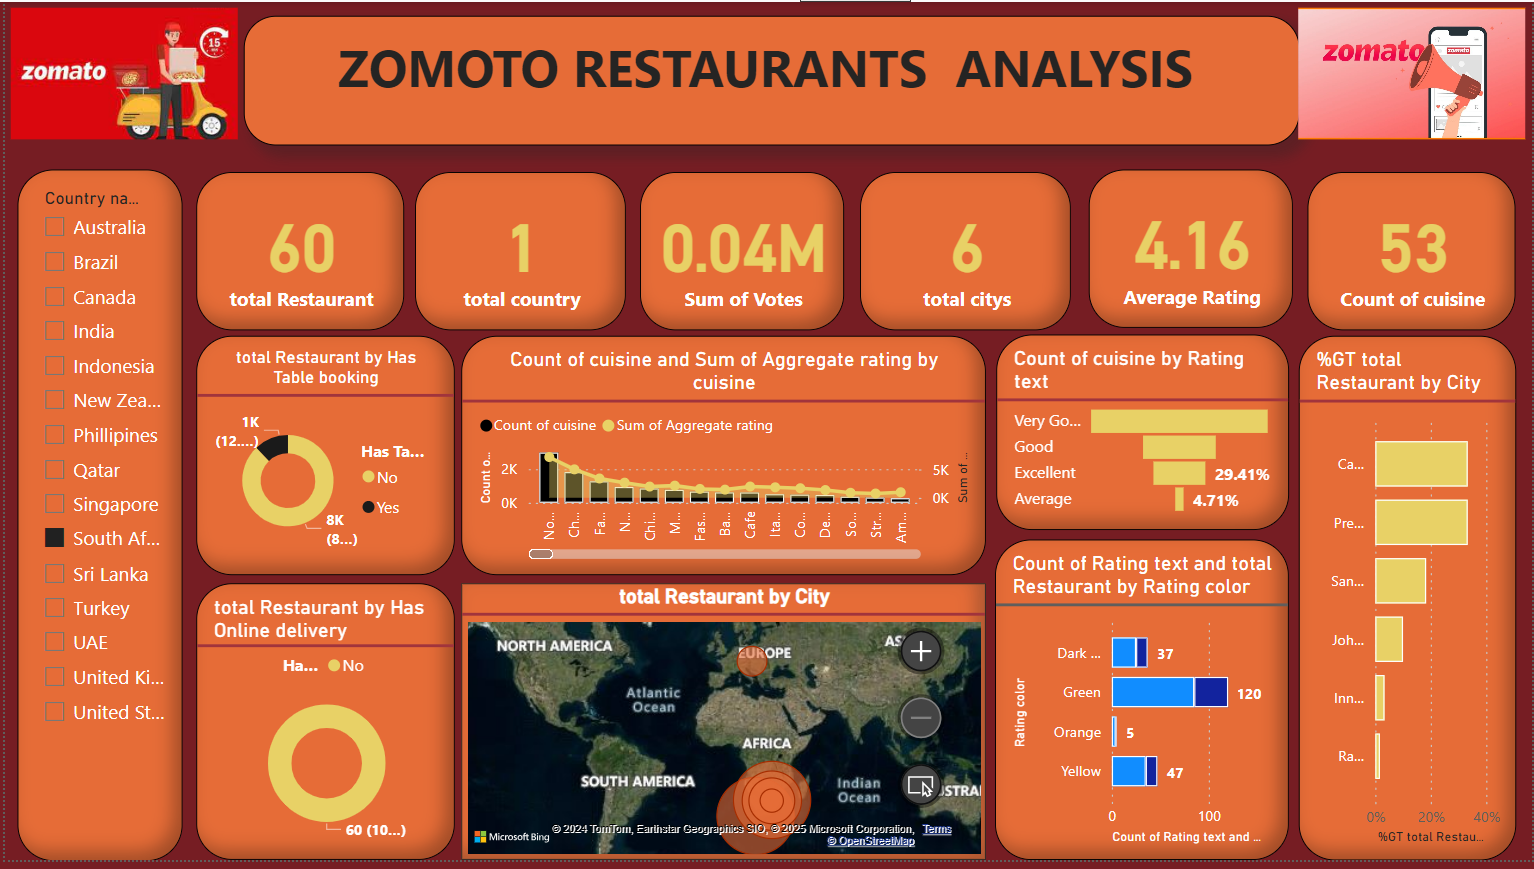

Layout of this report page (visuals, bound fields, positions):
{"tool":"powerbi","page":{"name":"Page 1","canvas":[1280,720],"ordinal":0},"visuals":[{"type":"card","fields":{"Values":["zomato.total Restaurant"]},"box":[160,142.9,174.3,132.9],"z":0},{"type":"card","fields":{"Values":["zomato.total country"]},"box":[344.3,142.9,177.1,132.9],"z":1000},{"type":"card","fields":{"Values":["zomato.total citys"]},"box":[717.1,142.9,177.1,132.9],"z":2000},{"type":"card","fields":{"Values":["Sum(zomato.Votes)"]},"box":[532.9,142.9,171.4,132.9],"z":3000},{"type":"barChart","fields":{"Category":["zomato.City"],"Y":["Divide(zomato.total Restaurant, ScopedEval(zomato.total Restaurant, []))"]},"box":[1085.7,280,194.3,440],"z":4000},{"type":"map","fields":{"Category":["zomato.City"],"Size":["zomato.total Restaurant"]},"box":[382.9,487.9,440,232.1],"z":5000},{"type":"barChart","fields":{"Category":["zomato.Rating color"],"Y":["CountNonNull(zomato.Rating text)","zomato.total Restaurant"]},"box":[830,451.2,246.2,268.8],"z":6000},{"type":"funnel","fields":{"Category":["zomato.Rating text"],"Y":["CountNonNull(zomato.cuisine)"]},"box":[830.9,279.1,245.5,163.6],"z":7000},{"type":"card","fields":{"Values":["Avg(zomato.Aggregate rating)"]},"box":[908.6,140,171.4,132.9],"z":8000},{"type":"card","fields":{"Values":["Count(zomato.cuisine)"]},"box":[1092.9,142.9,174.3,132.9],"z":9000},{"type":"lineStackedColumnComboChart","fields":{"Category":["zomato.cuisine"],"Y":["CountNonNull(zomato.cuisine)"],"Y2":["Sum(zomato.Aggregate rating)"]},"box":[382.9,280,440,200.7],"z":10000},{"type":"donutChart","fields":{"Category":["zomato.Has Online delivery"],"Y":["zomato.total Restaurant"]},"box":[160,487.9,216.4,232.1],"z":11000},{"type":"donutChart","fields":{"Category":["zomato.Has Table booking"],"Y":["zomato.total Restaurant"]},"box":[160,280,216.4,200.7],"z":12000},{"type":"slicer","fields":{"Values":["zomato.Country name"]},"box":[10,140,138.6,580],"z":13000},{"type":"textbox","box":[200,15,885,88.3],"z":14000},{"type":"image","box":[1080,0,200,120],"z":15000},{"type":"image","box":[0,0,200,120],"z":16000}]}

Visuals, with their boxes in screenshot pixels (x1, y1, x2, y2), scaled from the page's 1280x720 canvas onto the 1534x869 screenshot:
card - zomato.total Restaurant: x1=192, y1=172, x2=401, y2=333
card - zomato.total country: x1=413, y1=172, x2=625, y2=333
card - zomato.total citys: x1=859, y1=172, x2=1072, y2=333
card - Sum(zomato.Votes): x1=639, y1=172, x2=844, y2=333
barChart - zomato.City x Divide(zomato.total Restaurant, ScopedEval(zomato.total Restaurant, [])): x1=1301, y1=338, x2=1533, y2=868
map - zomato.City x zomato.total Restaurant: x1=459, y1=589, x2=986, y2=868
barChart - zomato.Rating color x CountNonNull(zomato.Rating text): x1=995, y1=545, x2=1290, y2=868
funnel - zomato.Rating text x CountNonNull(zomato.cuisine): x1=996, y1=337, x2=1290, y2=534
card - Avg(zomato.Aggregate rating): x1=1089, y1=169, x2=1294, y2=329
card - Count(zomato.cuisine): x1=1310, y1=172, x2=1519, y2=333
lineStackedColumnComboChart - zomato.cuisine x CountNonNull(zomato.cuisine): x1=459, y1=338, x2=986, y2=580
donutChart - zomato.Has Online delivery x zomato.total Restaurant: x1=192, y1=589, x2=451, y2=868
donutChart - zomato.Has Table booking x zomato.total Restaurant: x1=192, y1=338, x2=451, y2=580
slicer - zomato.Country name: x1=12, y1=169, x2=178, y2=868
textbox: x1=240, y1=18, x2=1300, y2=125
image: x1=1294, y1=0, x2=1533, y2=145
image: x1=0, y1=0, x2=240, y2=145
